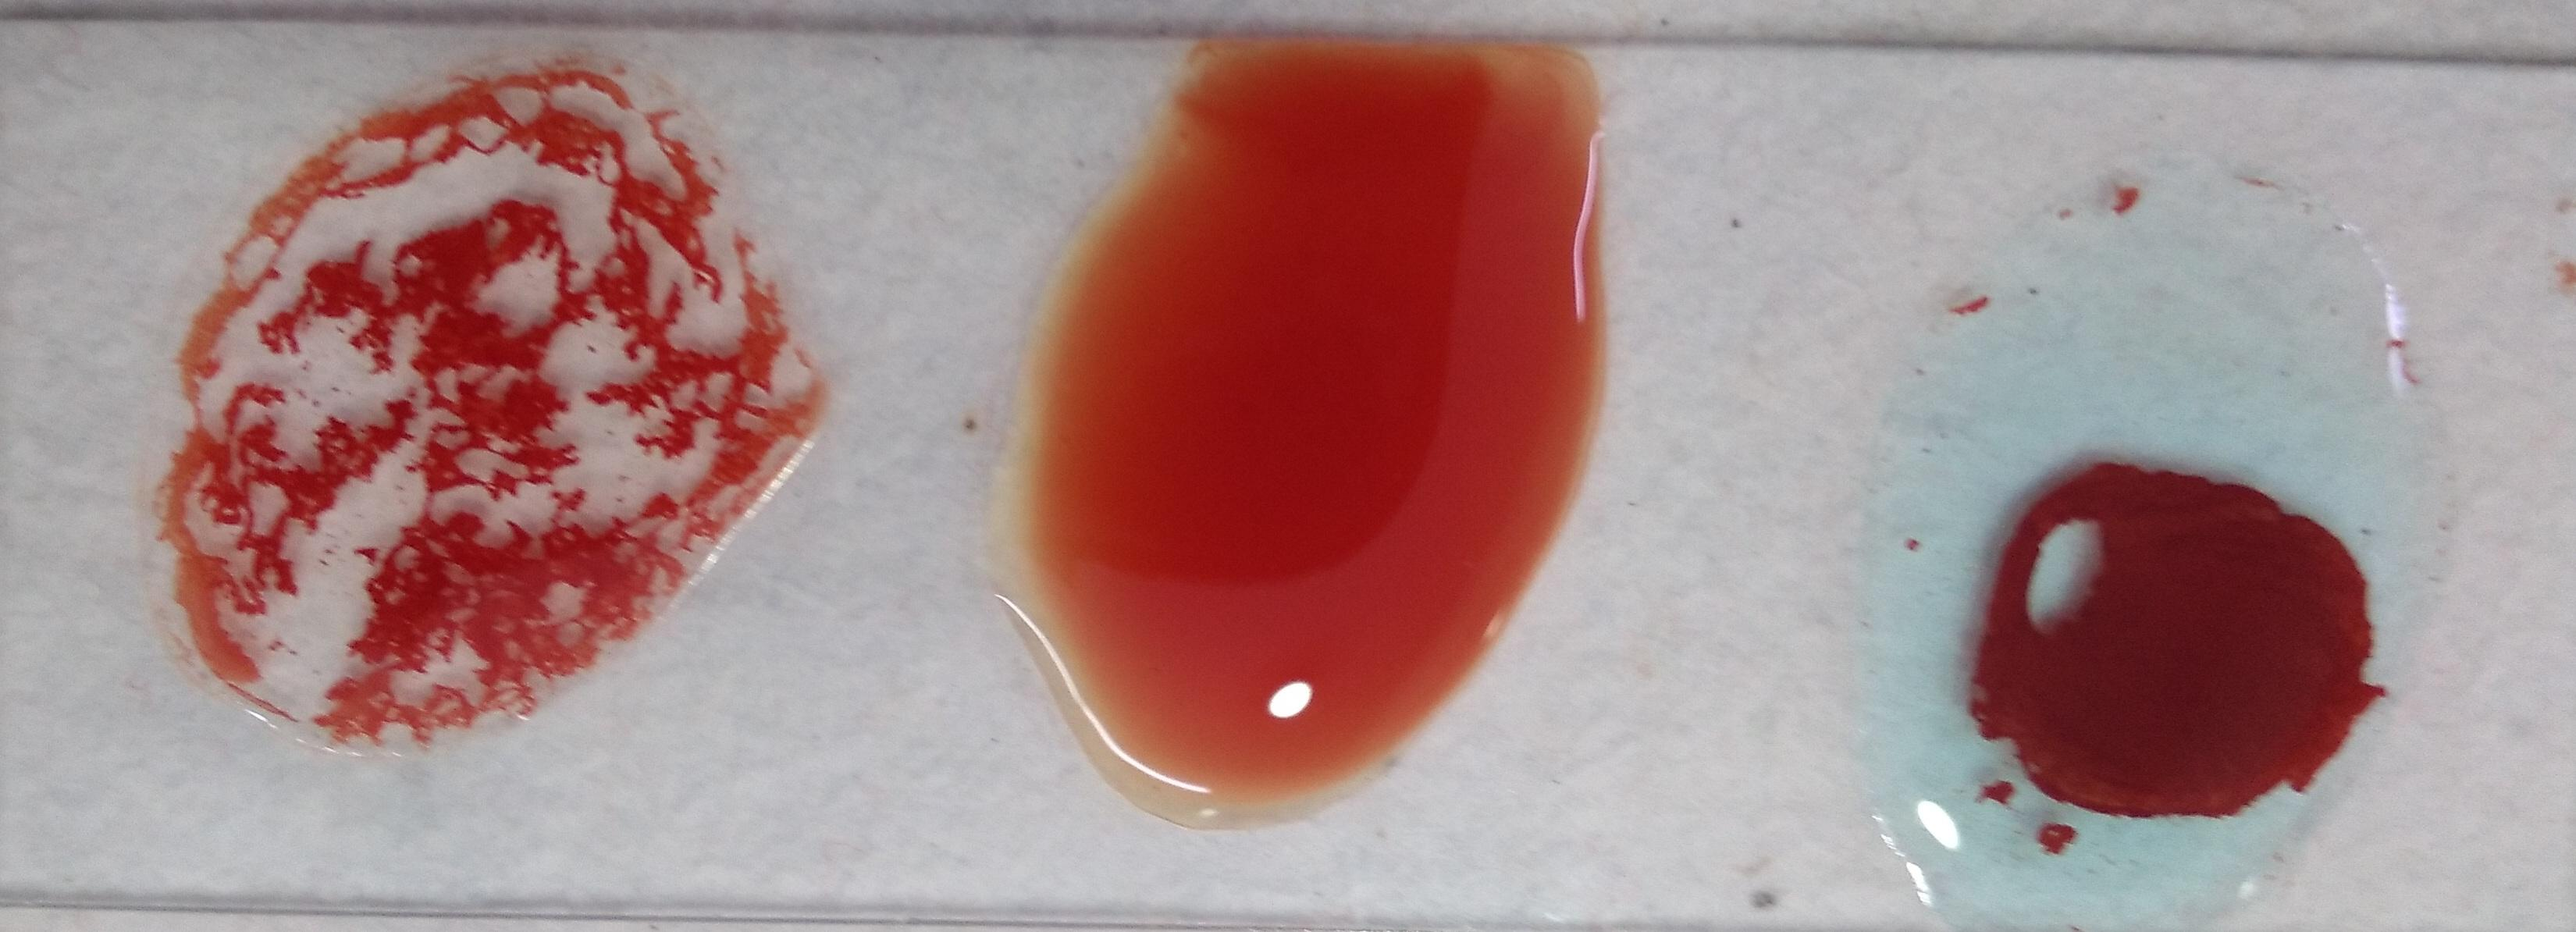A: (1901, 192, 2443, 920)
D: (173, 61, 777, 736)
